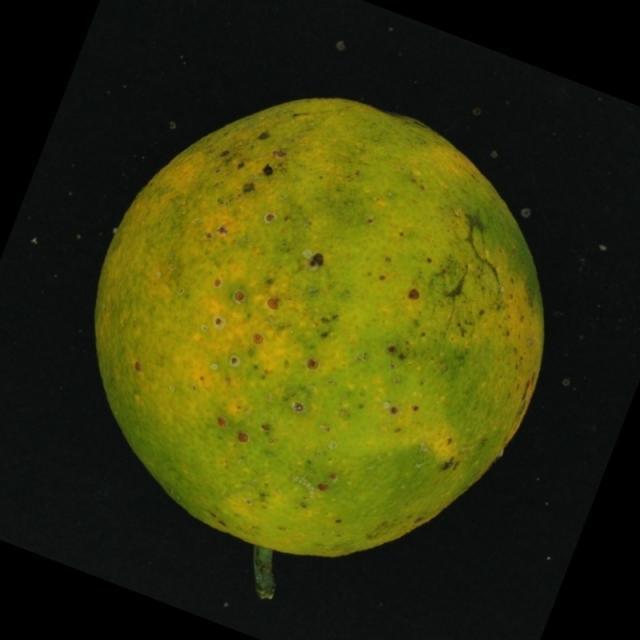grenning: (58, 68, 577, 619)
